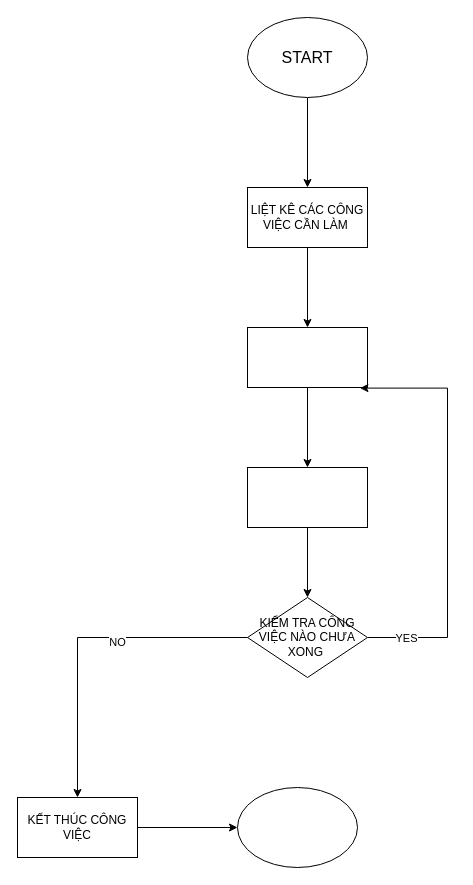
This 473x885 diagram has some shape labels left out. The centre of each missing label's shape, as x and y in pixels:
CHỌN CÔNG VIỆC LÀM TRƯỚC: point (307, 357)
HOÀN THÀNH CÔNG VIỆC VÀ TÍCH: point (307, 497)
